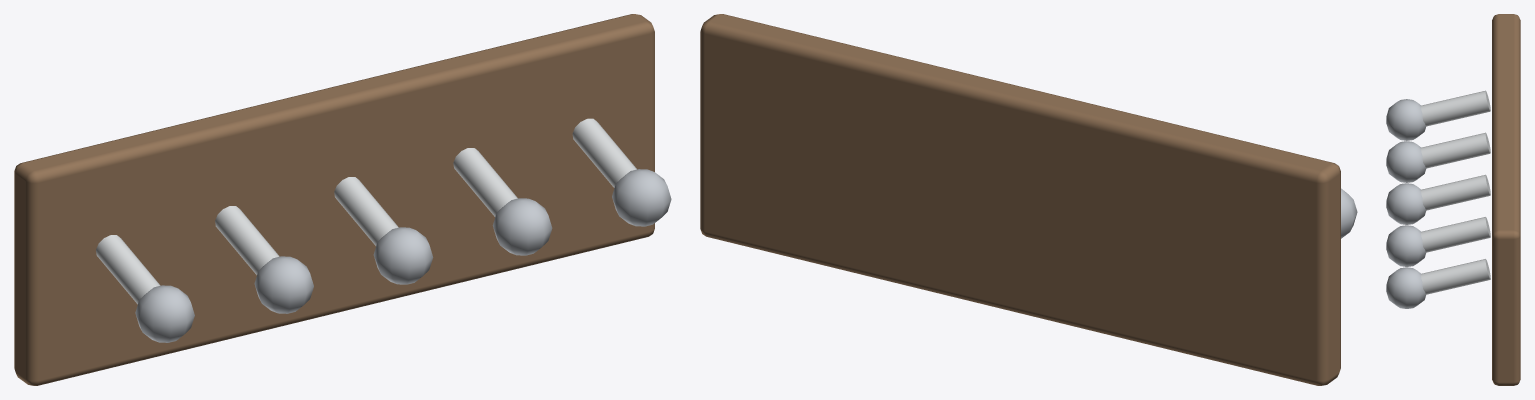
The model's file is coat_hanger_wall01.glb.
The picture shows the model from 3 angles, left to right: view 1: azimuth 30°, elevation 25°; view 2: azimuth 150°, elevation 25°; view 3: azimuth 270°, elevation 25°; orthographic projection. The views are drawn at different scales.
Parts seen in each view (by area): view 1: back, ends, hooks; view 2: back, ends; view 3: back, hooks, ends.
Boxes of the visible parts, <box> form: back: <box>14,14,654,385</box>; ends: <box>135,169,671,342</box>; hooks: <box>96,118,636,304</box>; back: <box>700,14,1340,385</box>; ends: <box>1341,188,1357,238</box>; back: <box>1492,14,1520,385</box>; hooks: <box>1420,90,1490,294</box>; ends: <box>1386,99,1426,308</box>.
Bounding box in the file's own units: 0.58 × 0.19 × 0.1488.
